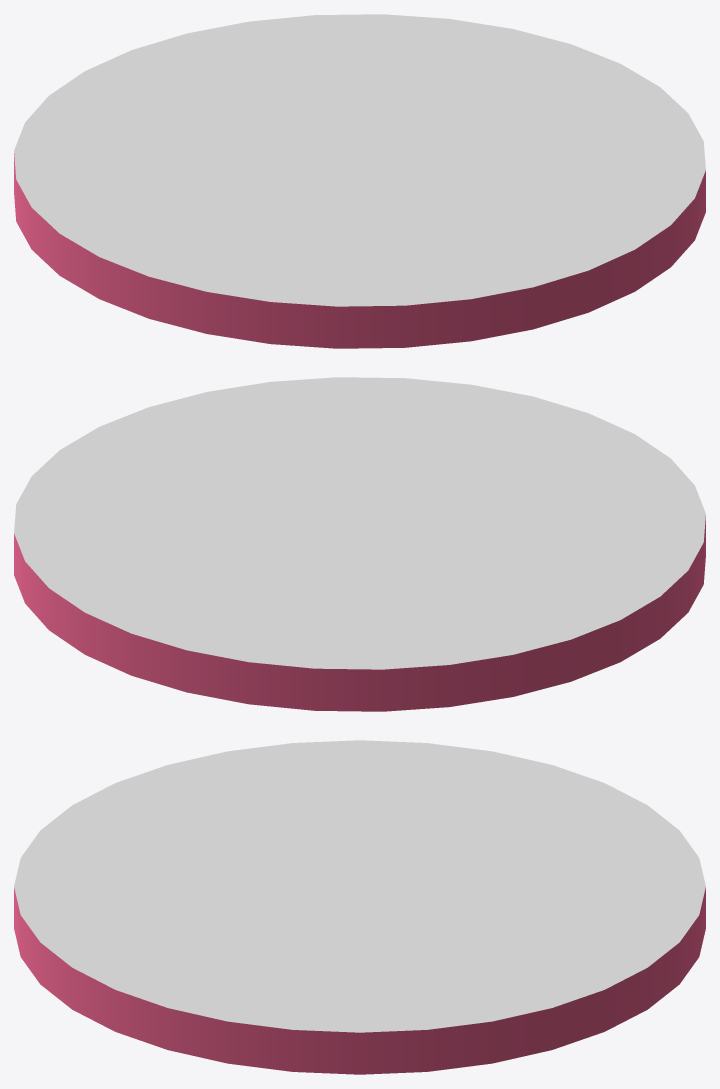
File: sercle glay.fbx
3 renders of one model, top to bottom at view 1: azimuth 30°, elevation 25°; view 2: azimuth 150°, elevation 25°; view 3: azimuth 270°, elevation 25°, orthographic.
Visible parts, largest first — view 1: Cylinder.001, Cylinder; view 2: Cylinder.001, Cylinder; view 3: Cylinder.001, Cylinder.
Boxes of the visible parts, bbox=[...] form: Cylinder.001: bbox=[14, 14, 705, 306]; Cylinder: bbox=[14, 153, 705, 348]; Cylinder.001: bbox=[14, 377, 705, 669]; Cylinder: bbox=[14, 516, 705, 711]; Cylinder.001: bbox=[14, 740, 705, 1032]; Cylinder: bbox=[14, 887, 705, 1074].
Size of the model in its own units: 200 by 13.41 by 200.
